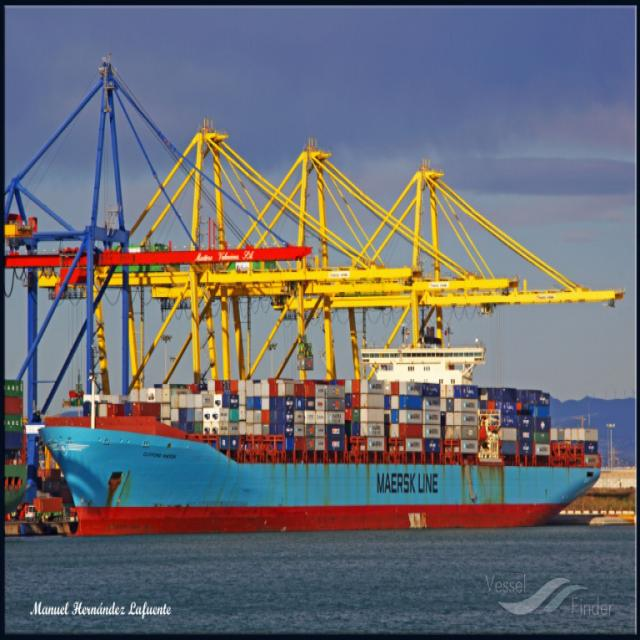Container Ship: (37, 325, 602, 537)
